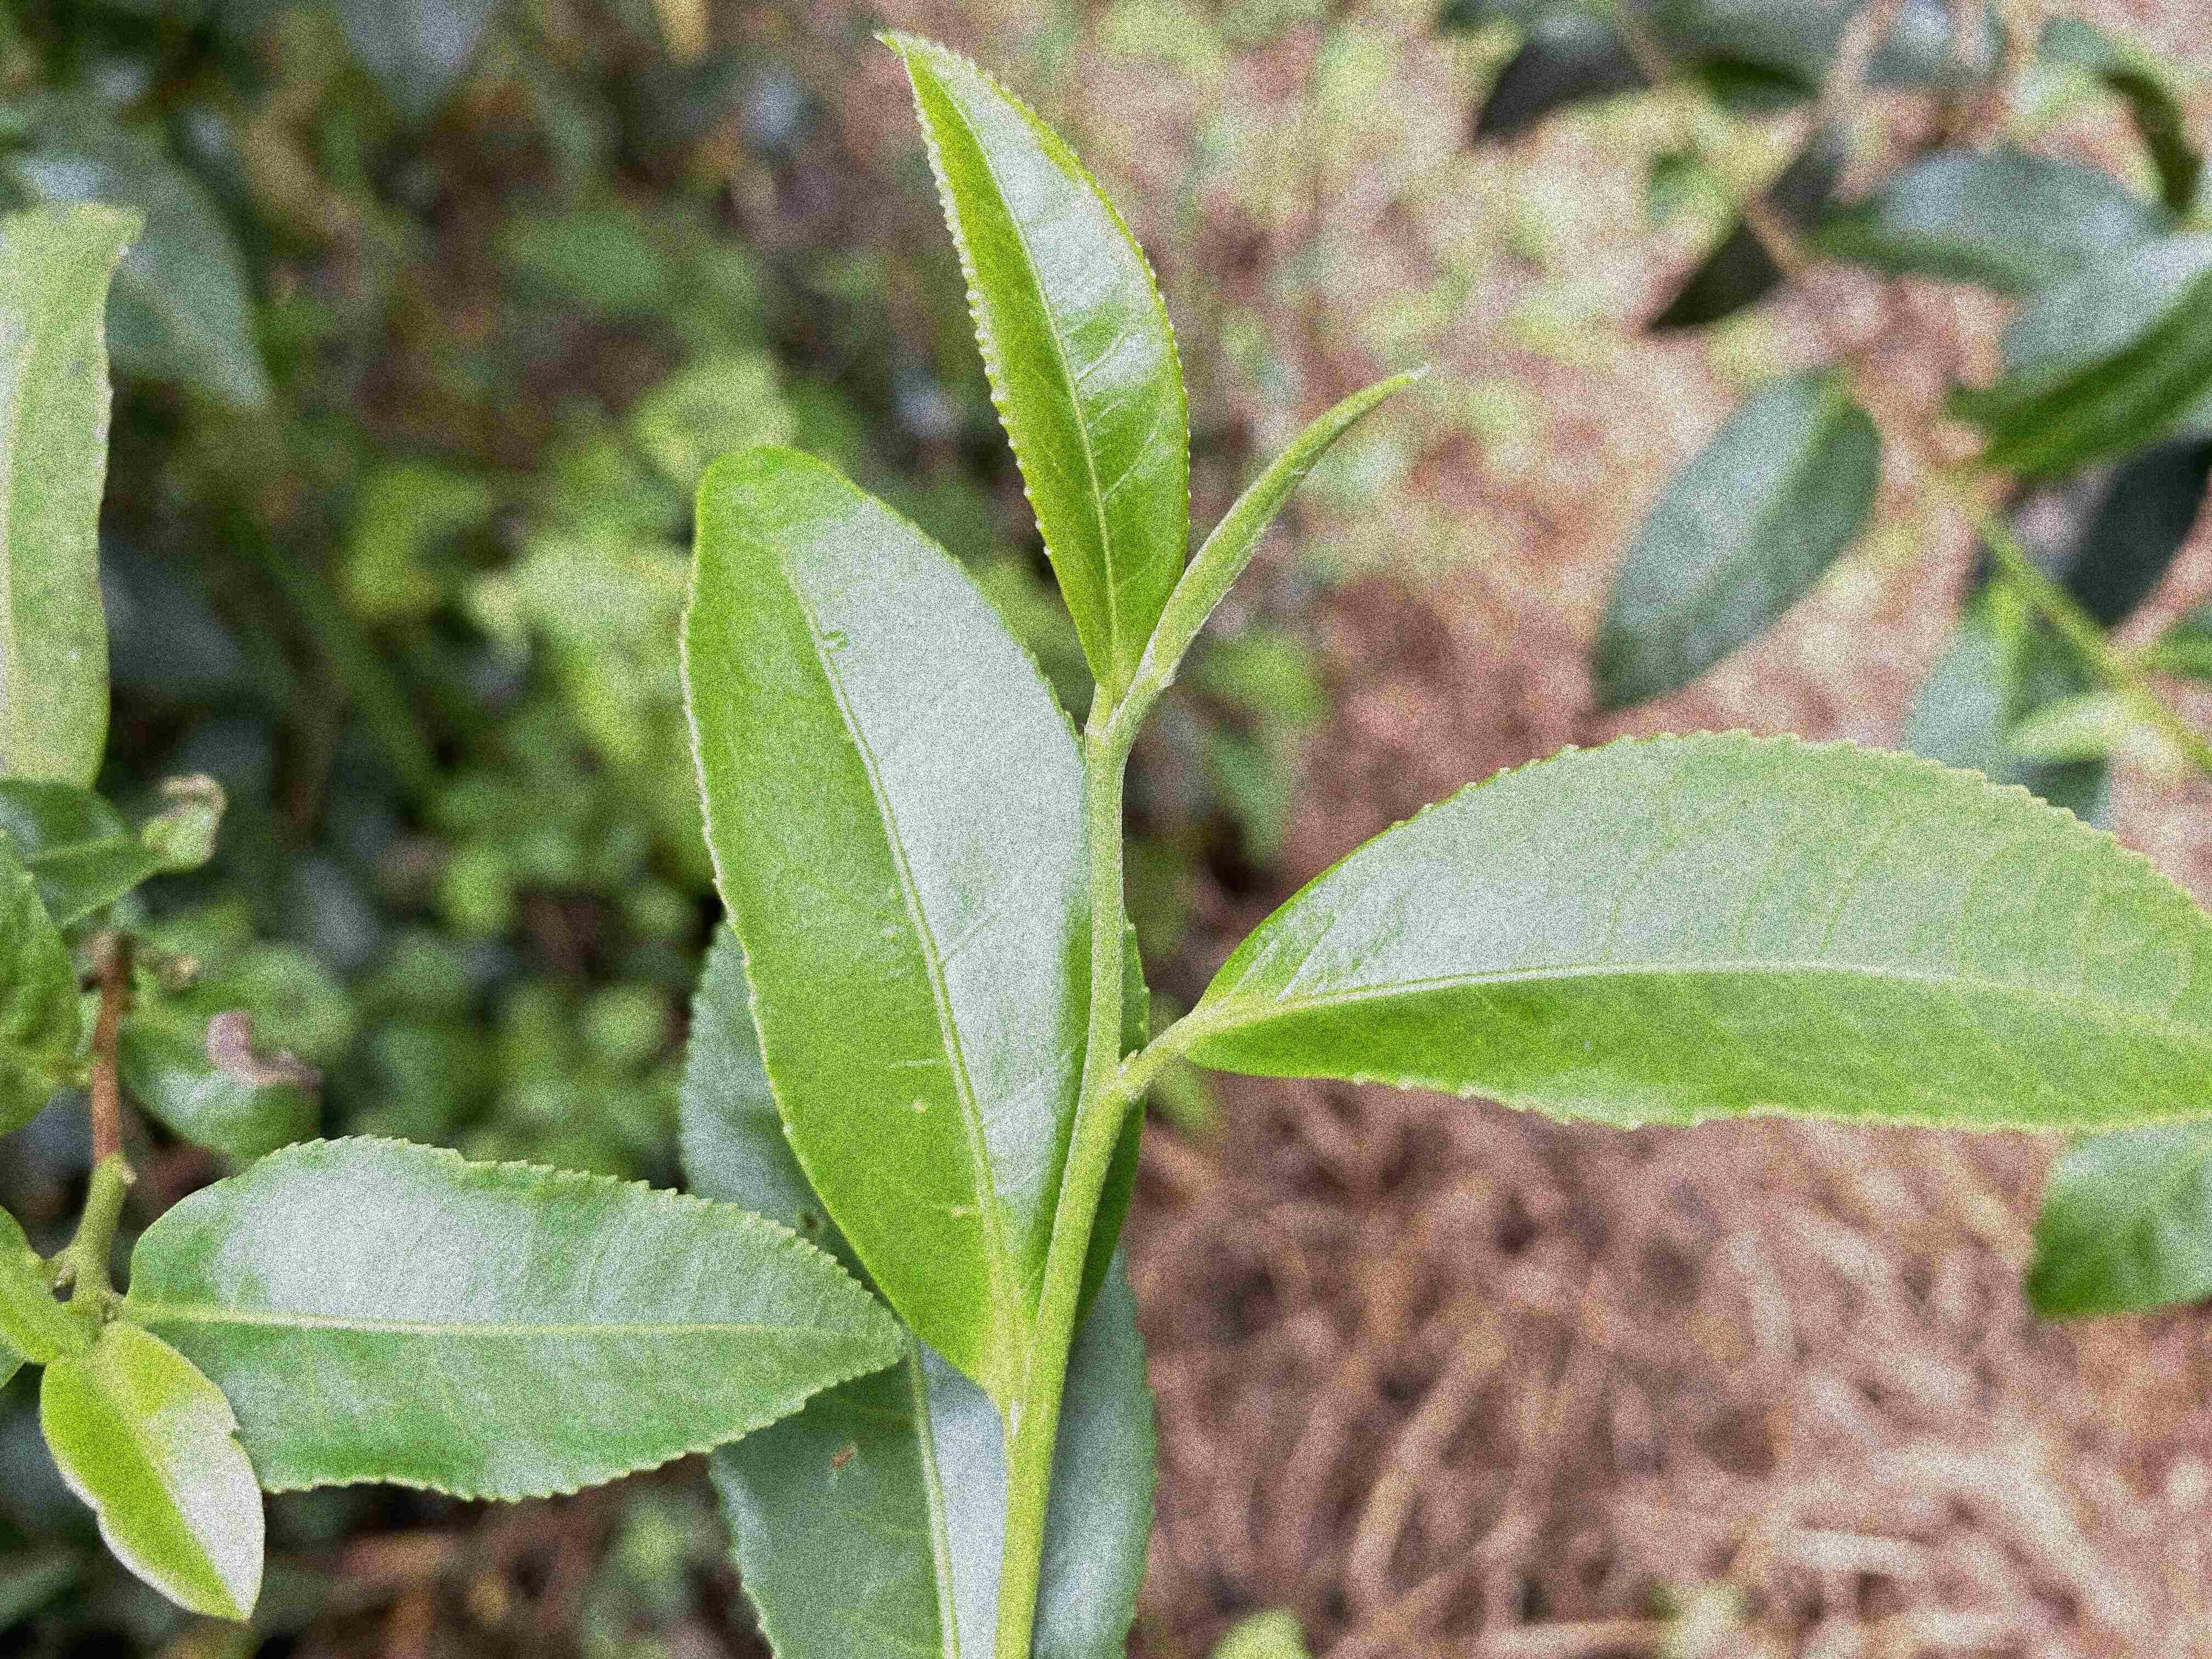healthy: (669, 446, 1151, 1401), (1179, 723, 2209, 1138), (878, 35, 1197, 694)
